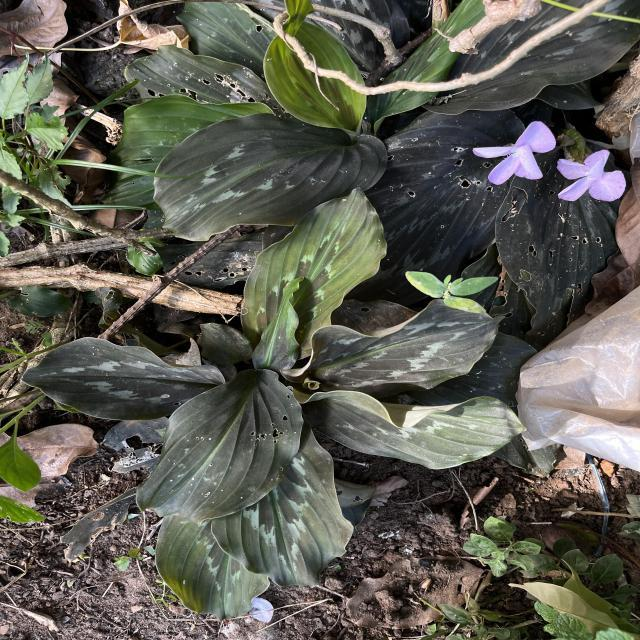Kaempferia galanga linn: (151, 111, 390, 244), (132, 364, 306, 528), (240, 184, 390, 363), (210, 416, 356, 591), (276, 296, 507, 394), (280, 382, 529, 471), (20, 336, 228, 422), (154, 514, 272, 624), (251, 274, 306, 376)
